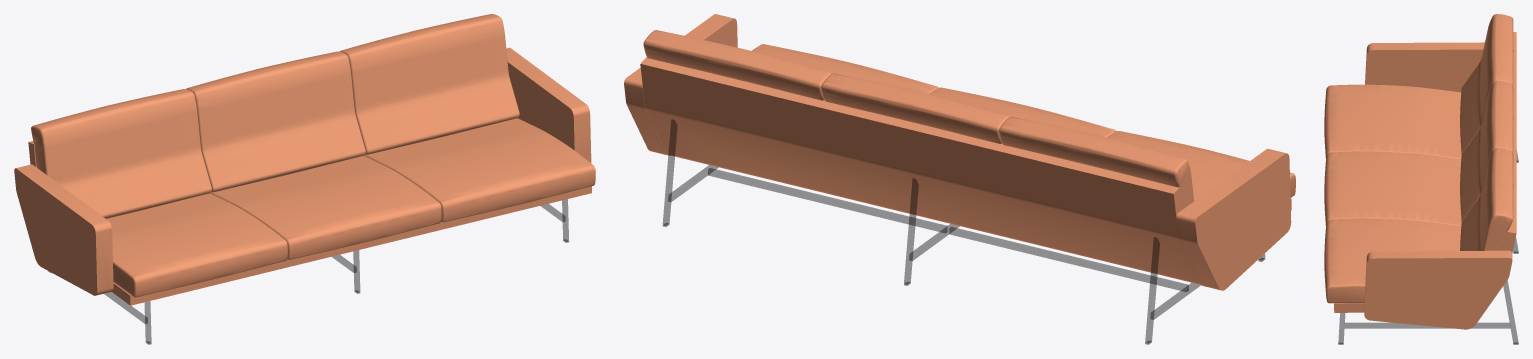
Rendered from Sofa3.glb.
3 renders of one model, left to right at view 1: azimuth 30°, elevation 25°; view 2: azimuth 150°, elevation 25°; view 3: azimuth 270°, elevation 25°, orthographic. The views are drawn at different scales.
Parts seen in each view (by area): view 1: Furniture_Sofas-Armchairs_Fritz-Hansen_PL113; view 2: Furniture_Sofas-Armchairs_Fritz-Hansen_PL113; view 3: Furniture_Sofas-Armchairs_Fritz-Hansen_PL113.
Boxes of the visible parts, x1,y1,x2,y2 form: Furniture_Sofas-Armchairs_Fritz-Hansen_PL113: (14,14,595,344); Furniture_Sofas-Armchairs_Fritz-Hansen_PL113: (624,14,1295,344); Furniture_Sofas-Armchairs_Fritz-Hansen_PL113: (1324,14,1518,344).
Size of the model in its own units: 48.19 by 14.71 by 18.37.
